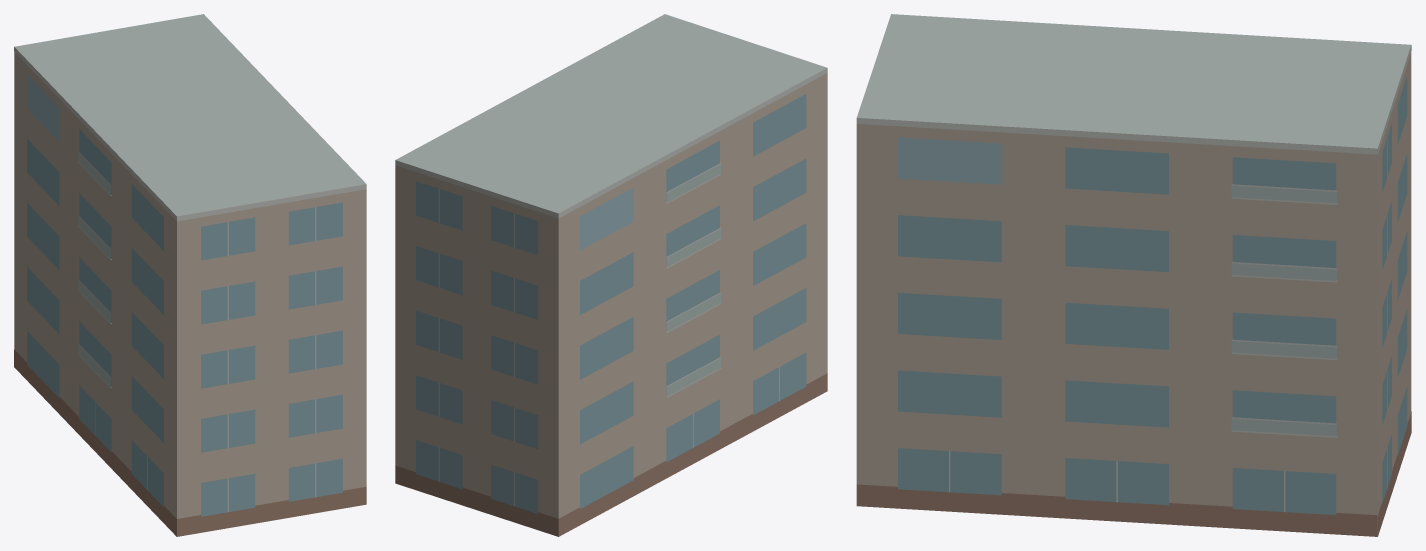
The model's file is survey-upis-32998500.glb.
3 renders of one model, left to right at view 1: azimuth 30°, elevation 25°; view 2: azimuth 150°, elevation 25°; view 3: azimuth 270°, elevation 25°, orthographic. The views are drawn at different scales.
Parts seen in each view (by area): view 1: survey-upis-32998500.tmp; view 2: survey-upis-32998500.tmp; view 3: survey-upis-32998500.tmp.
Boxes of the visible parts, x1,y1,x2,y2 form: survey-upis-32998500.tmp: [14, 14, 366, 536]; survey-upis-32998500.tmp: [395, 14, 827, 536]; survey-upis-32998500.tmp: [856, 14, 1411, 536].
Size of the model in its own units: 11.68 by 15.7 by 20.34.
